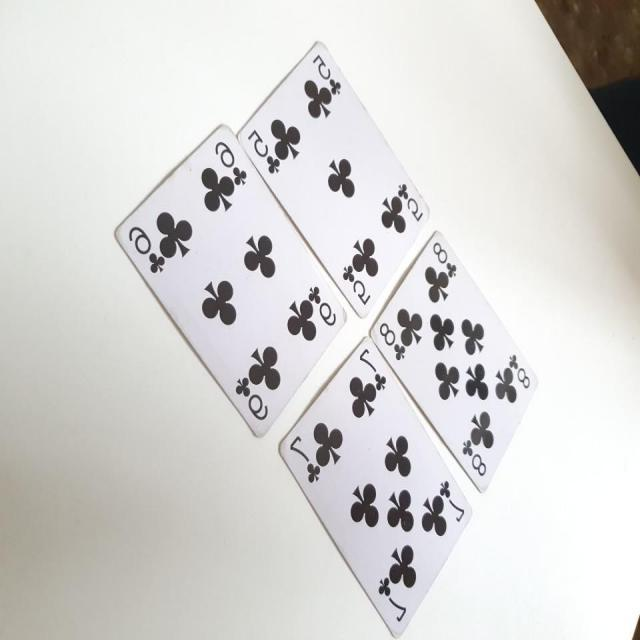5 of clubs: (239, 40, 432, 318)
6 of clubs: (115, 125, 348, 442)
7 of clubs: (276, 333, 474, 640)
8 of clubs: (368, 230, 542, 494)
